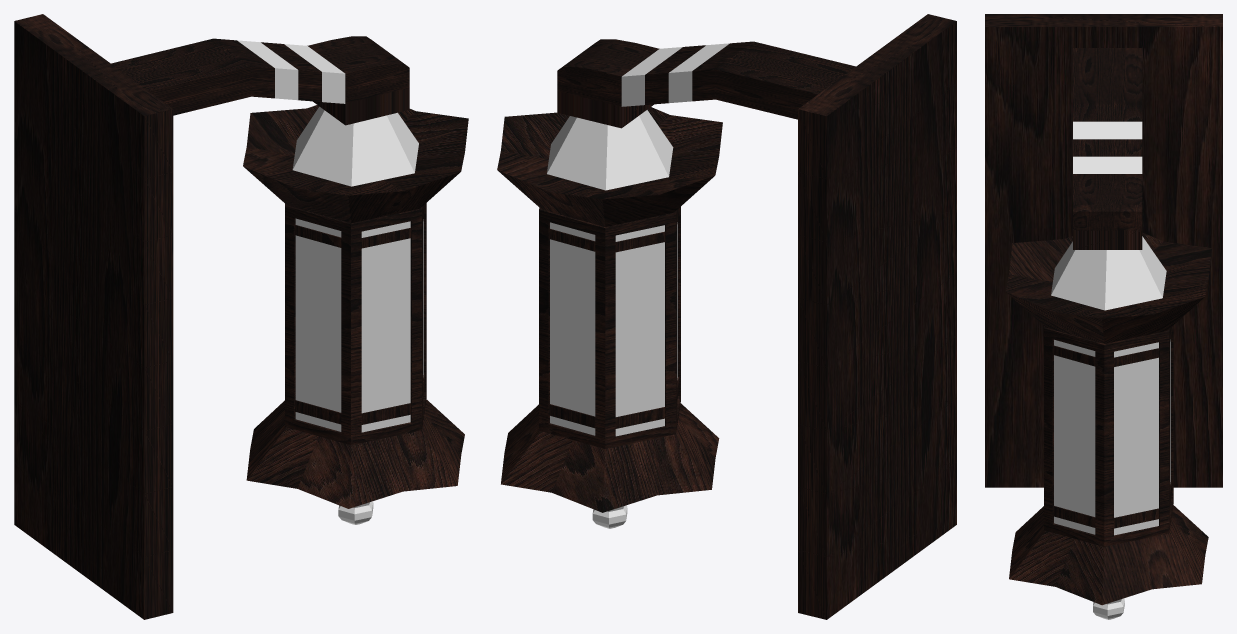
The model's file is ChineseLanternWall.fbx.
3 views of the same model, side by side, from view 1: azimuth 30°, elevation 25°; view 2: azimuth 150°, elevation 25°; view 3: azimuth 270°, elevation 25° (orthographic). The views are drawn at different scales.
Visible parts, largest first — view 1: Cube, Circle, Cube.001; view 2: Cube, Circle, Cube.001; view 3: Cube, Circle, Cube.001.
Part boxes in pixels (bbox=[...]): Cube: bbox=[14, 14, 173, 619]; Circle: bbox=[243, 105, 468, 524]; Cube.001: bbox=[111, 36, 409, 125]; Cube: bbox=[798, 14, 956, 619]; Circle: bbox=[497, 107, 722, 528]; Cube.001: bbox=[557, 39, 855, 128]; Cube: bbox=[985, 14, 1222, 487]; Circle: bbox=[1005, 232, 1211, 619]; Cube.001: bbox=[1073, 48, 1142, 249].
Bounding box in the file's own units: 34.72 × 44.76 × 20.14.
3 materials, 1 textured.
